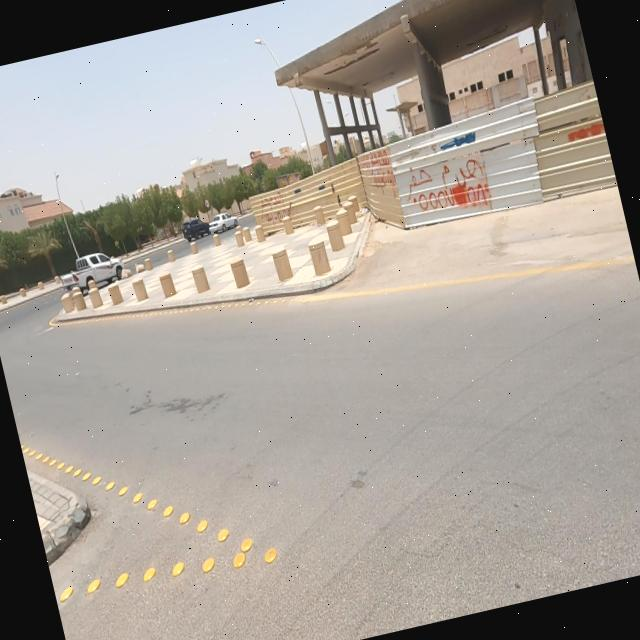Graffiti: (399, 148, 493, 226), (360, 147, 397, 193), (566, 120, 606, 148), (256, 188, 288, 222), (436, 127, 478, 151)
